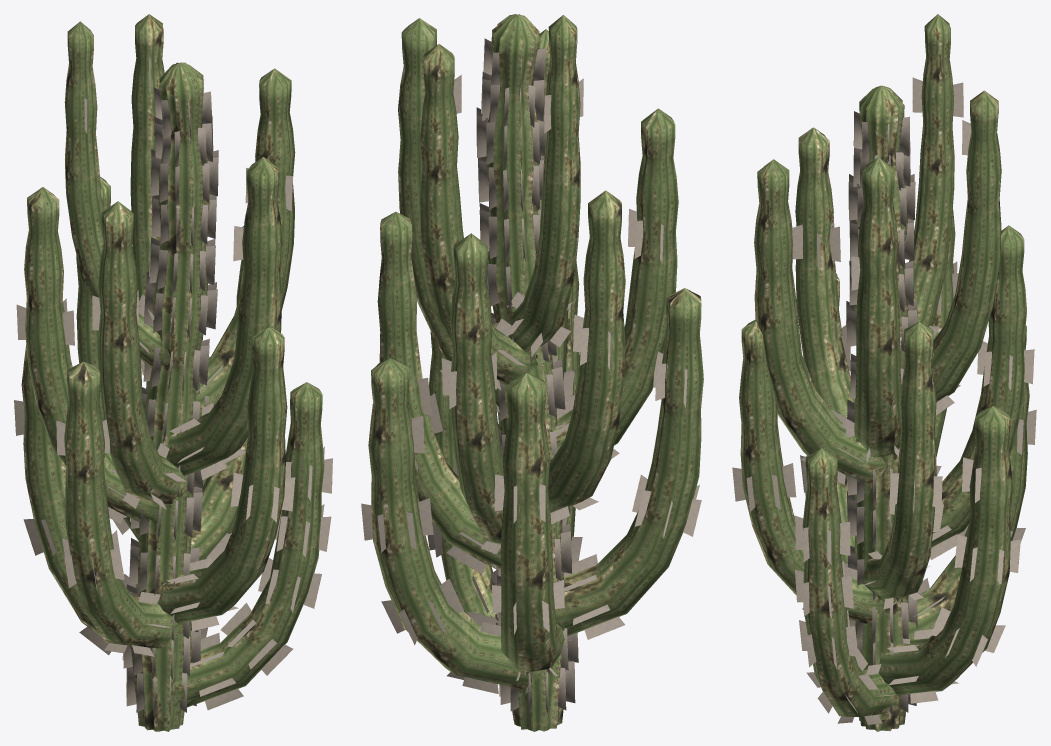
Rendered from cactus0.obj.
3 renders of one model, left to right at view 1: azimuth 30°, elevation 25°; view 2: azimuth 150°, elevation 25°; view 3: azimuth 270°, elevation 25°, orthographic. The views are drawn at different scales.
Visible parts, largest first — view 1: plant07, thorns; view 2: plant07, thorns; view 3: plant07, thorns.
Part boxes in pixels (bbox=[...]): plant07: bbox=[21, 14, 324, 731]; thorns: bbox=[14, 58, 332, 716]; plant07: bbox=[368, 14, 703, 731]; thorns: bbox=[361, 38, 701, 714]; plant07: bbox=[739, 14, 1029, 731]; thorns: bbox=[732, 77, 1036, 724].
Size of the model in its own units: 96.16 by 242 by 97.85.
2 materials, 2 textured.
